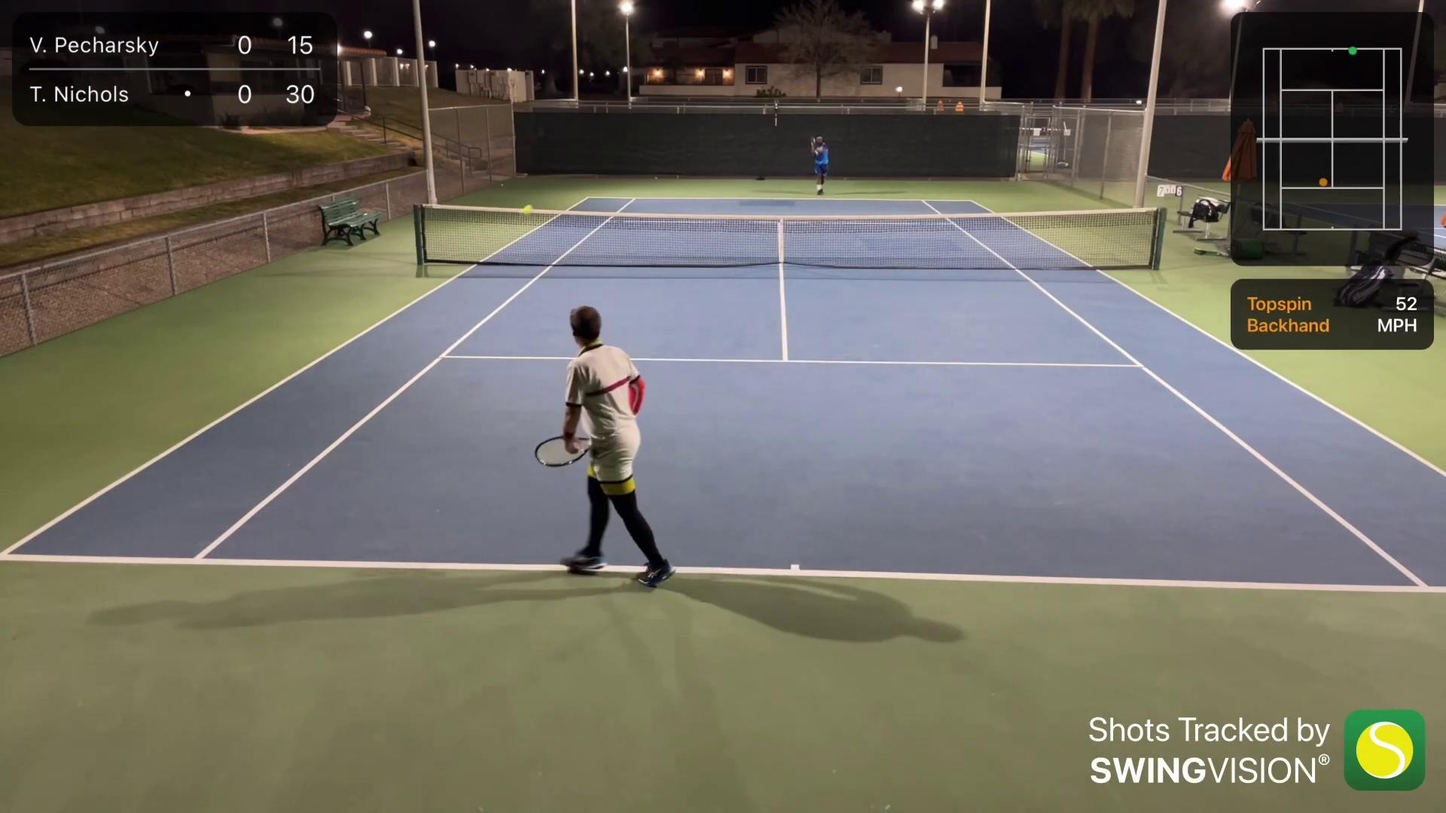ball: (521, 204, 535, 214)
